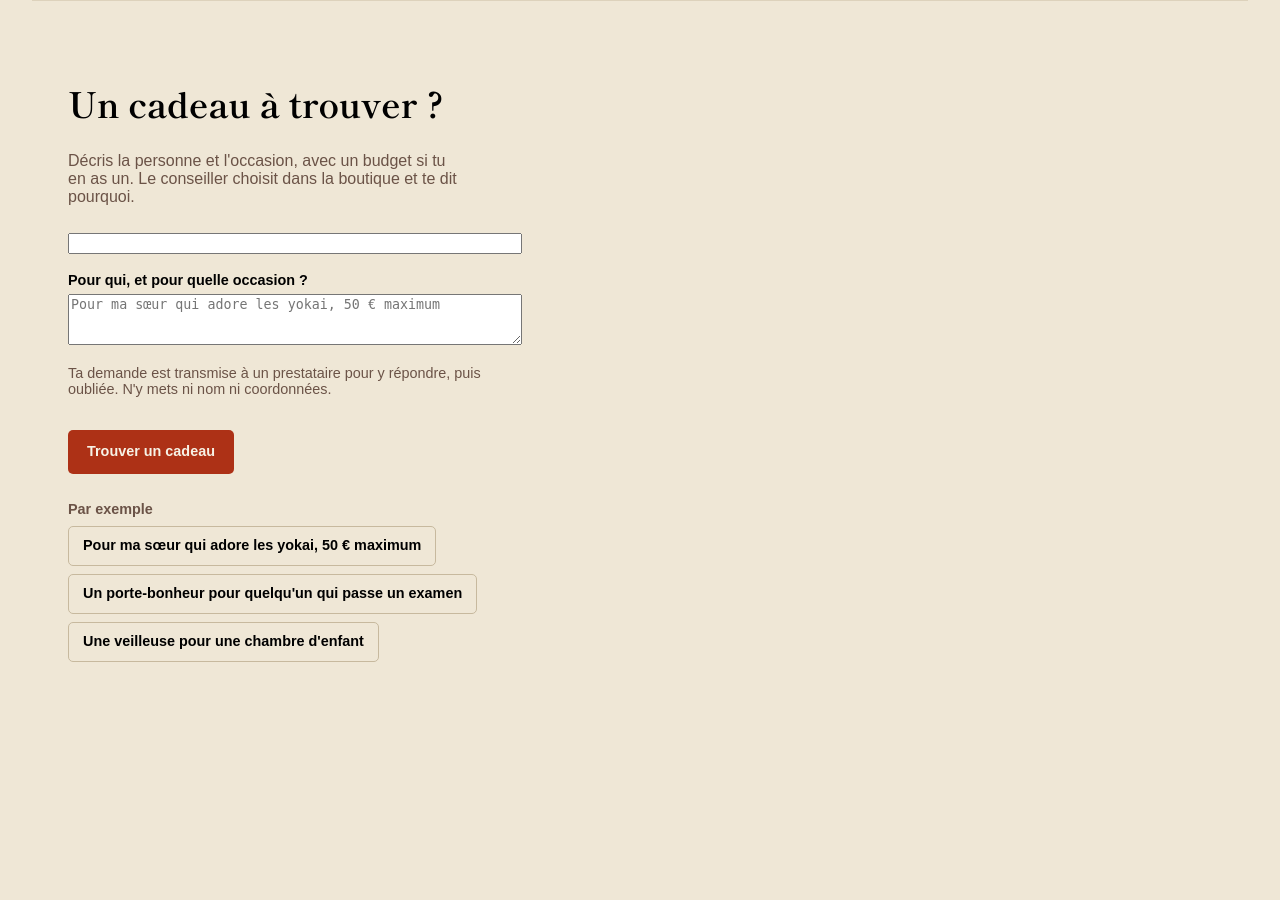
Scenario: Conseil cadeau › un exemple remplit la demande sans l'envoyer
Click the button "Pour ma sœur qui adore les yokai, 50 € maximum" at (252, 546), box [68,526,436,566]
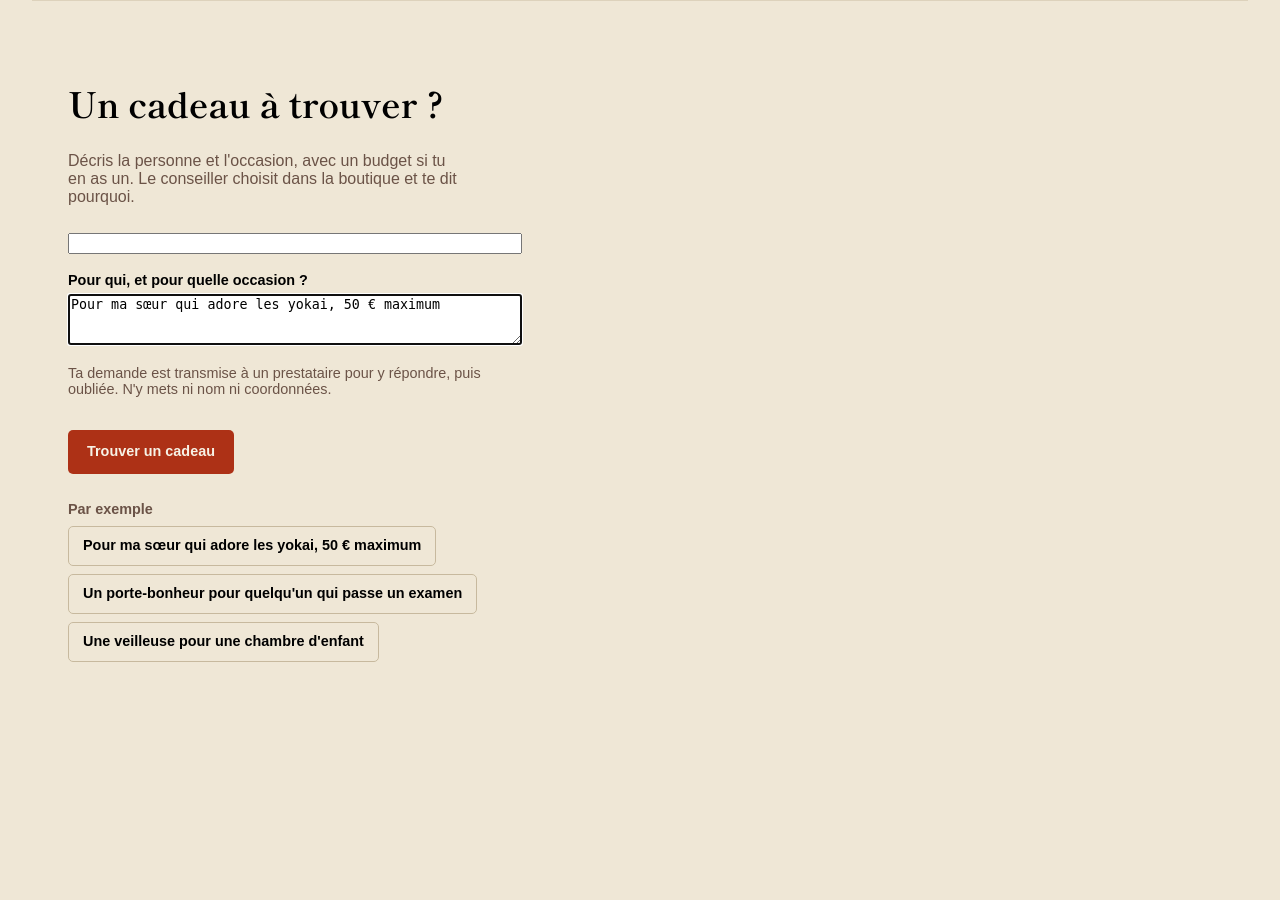
Now the text box labelled "Pour qui, et pour quelle occasion ?" holds "Pour ma sœur qui adore les yokai, 50 € maximum", box [68,294,522,345]
